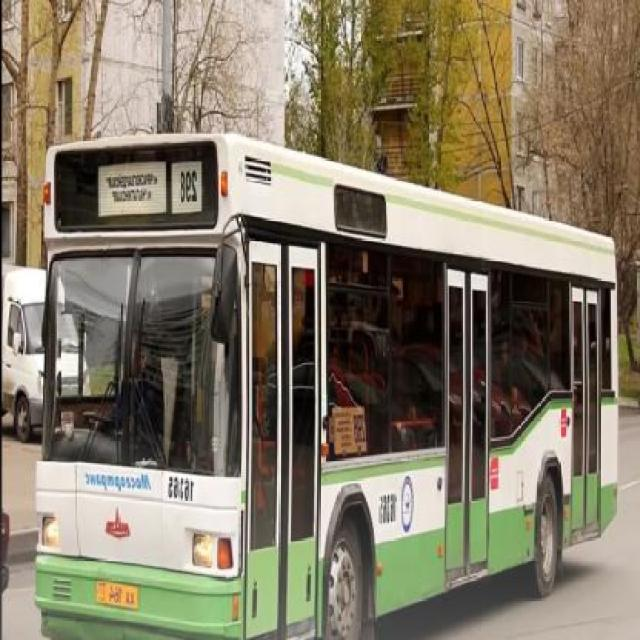bus: (38, 128, 618, 640)
